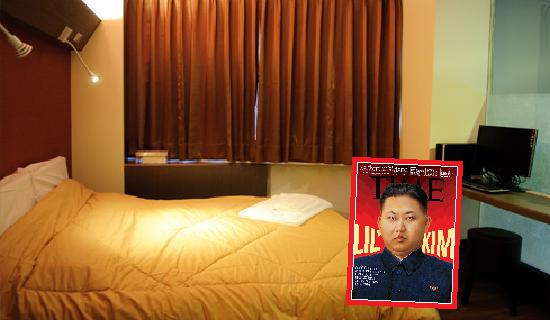times: (344, 155, 464, 307)
